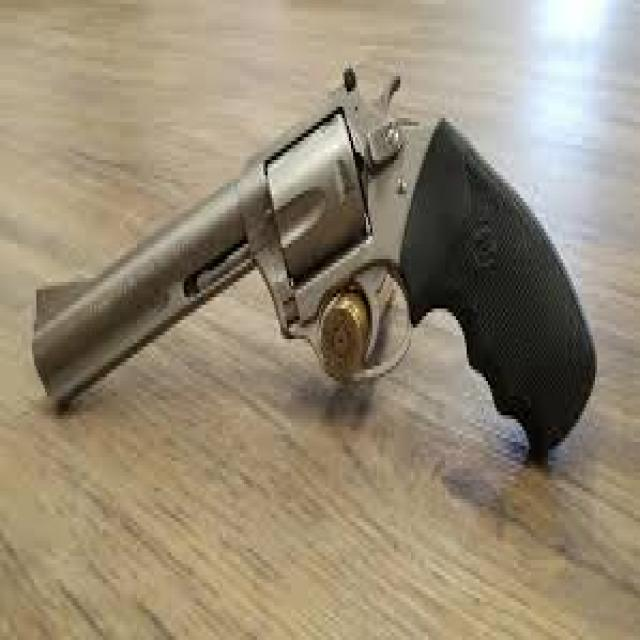Gun: (51, 38, 615, 483)
